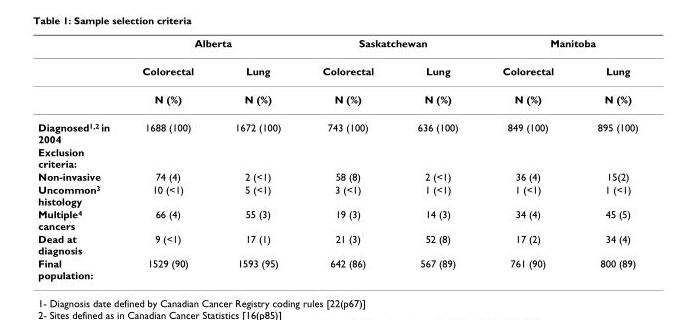table: (37, 36, 637, 280)
table column: (479, 36, 574, 280), (301, 36, 394, 280), (37, 36, 125, 280), (125, 36, 213, 280), (213, 36, 301, 280), (394, 36, 479, 280), (574, 36, 637, 280)
table column header: (37, 36, 637, 84)
table projected row header: (37, 145, 637, 169)
table row: (37, 112, 637, 145), (37, 56, 637, 84), (37, 84, 637, 112), (37, 182, 637, 207), (37, 231, 637, 256), (37, 145, 637, 169), (37, 207, 637, 231), (37, 256, 637, 280), (37, 36, 637, 56), (37, 169, 637, 182)
table spanning cell: (301, 36, 479, 56), (125, 36, 301, 56), (479, 36, 637, 56)
